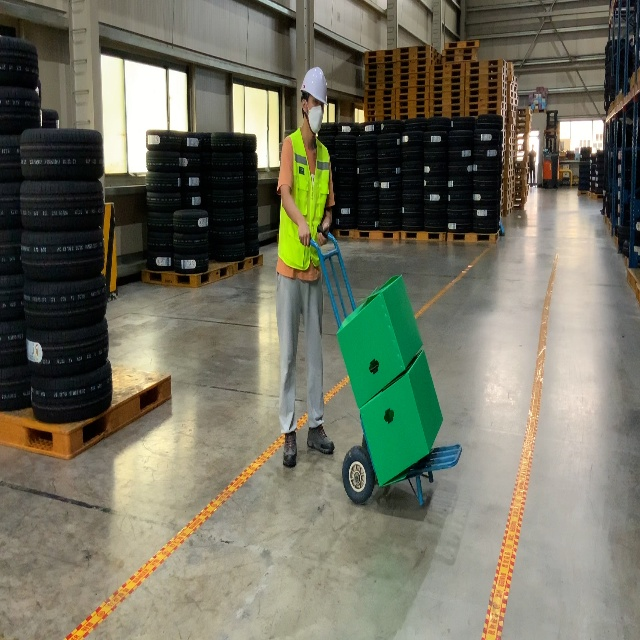Box: (335, 275, 424, 410), (358, 349, 444, 488)
Worker: (276, 65, 337, 469)
